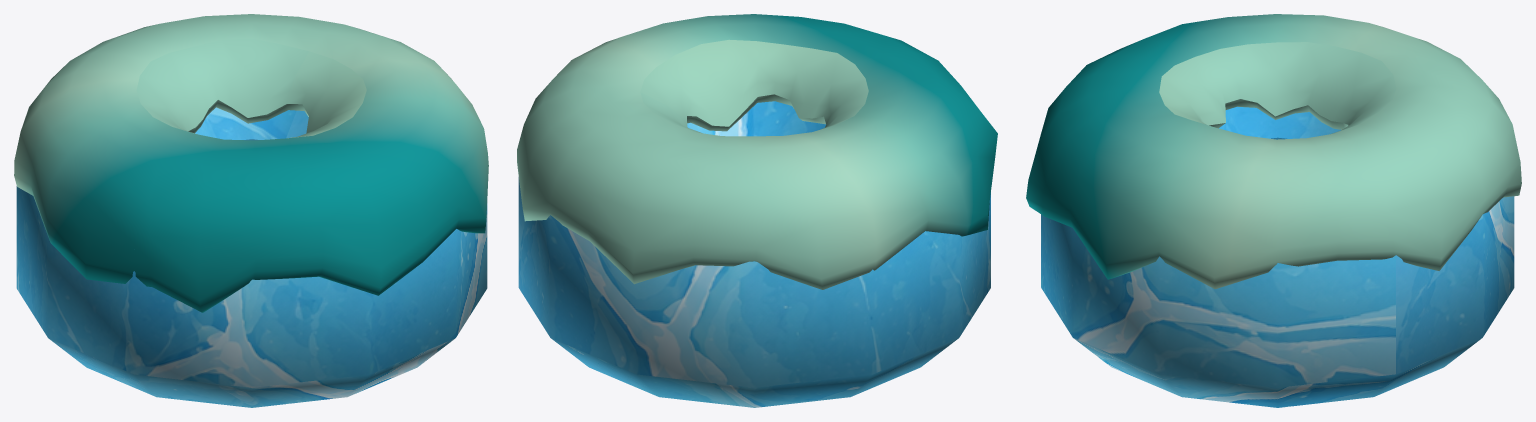
File: Mdl_Donut_Ice.fbx
The picture shows the model from 3 angles, left to right: view 1: azimuth 30°, elevation 25°; view 2: azimuth 150°, elevation 25°; view 3: azimuth 270°, elevation 25°; orthographic projection.
Visible parts, largest first — view 1: Mesh_Donut_Ice.001; view 2: Mesh_Donut_Ice.001; view 3: Mesh_Donut_Ice.001.
Boxes of the visible parts, box(x1,y1,x2,y2) form: Mesh_Donut_Ice.001: box(14, 14, 488, 407); Mesh_Donut_Ice.001: box(517, 14, 997, 407); Mesh_Donut_Ice.001: box(1026, 14, 1521, 407).
Size of the model in its own units: 337 by 188 by 349.
